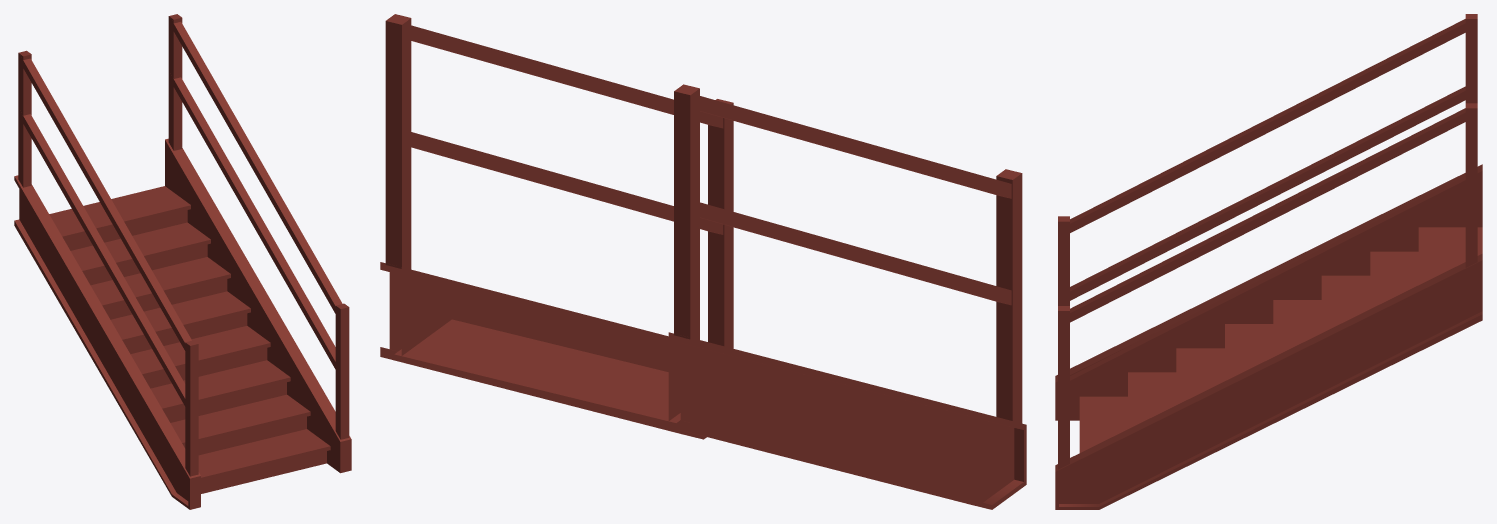
File: Industrial catwalk stairs 1.fbx
3 renders of one model, left to right at view 1: azimuth 30°, elevation 25°; view 2: azimuth 150°, elevation 25°; view 3: azimuth 270°, elevation 25°, orthographic. The views are drawn at different scales.
Parts seen in each view (by area): view 1: pCube81; view 2: pCube81; view 3: pCube81.
Part boxes in pixels (x1=…): pCube81: x1=14, y1=14, x2=351, y2=509; pCube81: x1=380, y1=14, x2=1026, y2=509; pCube81: x1=1055, y1=14, x2=1482, y2=509.
Size of the model in its own units: 129 by 251 by 242.
